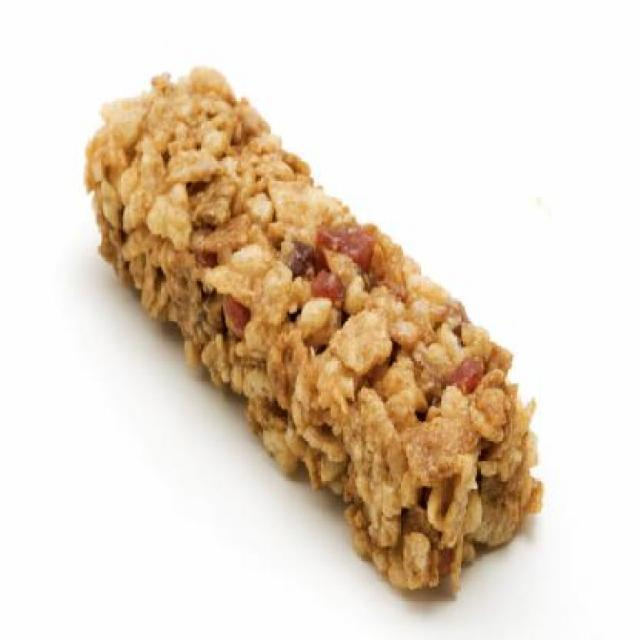Cereal bar packaged: (83, 66, 543, 602)
